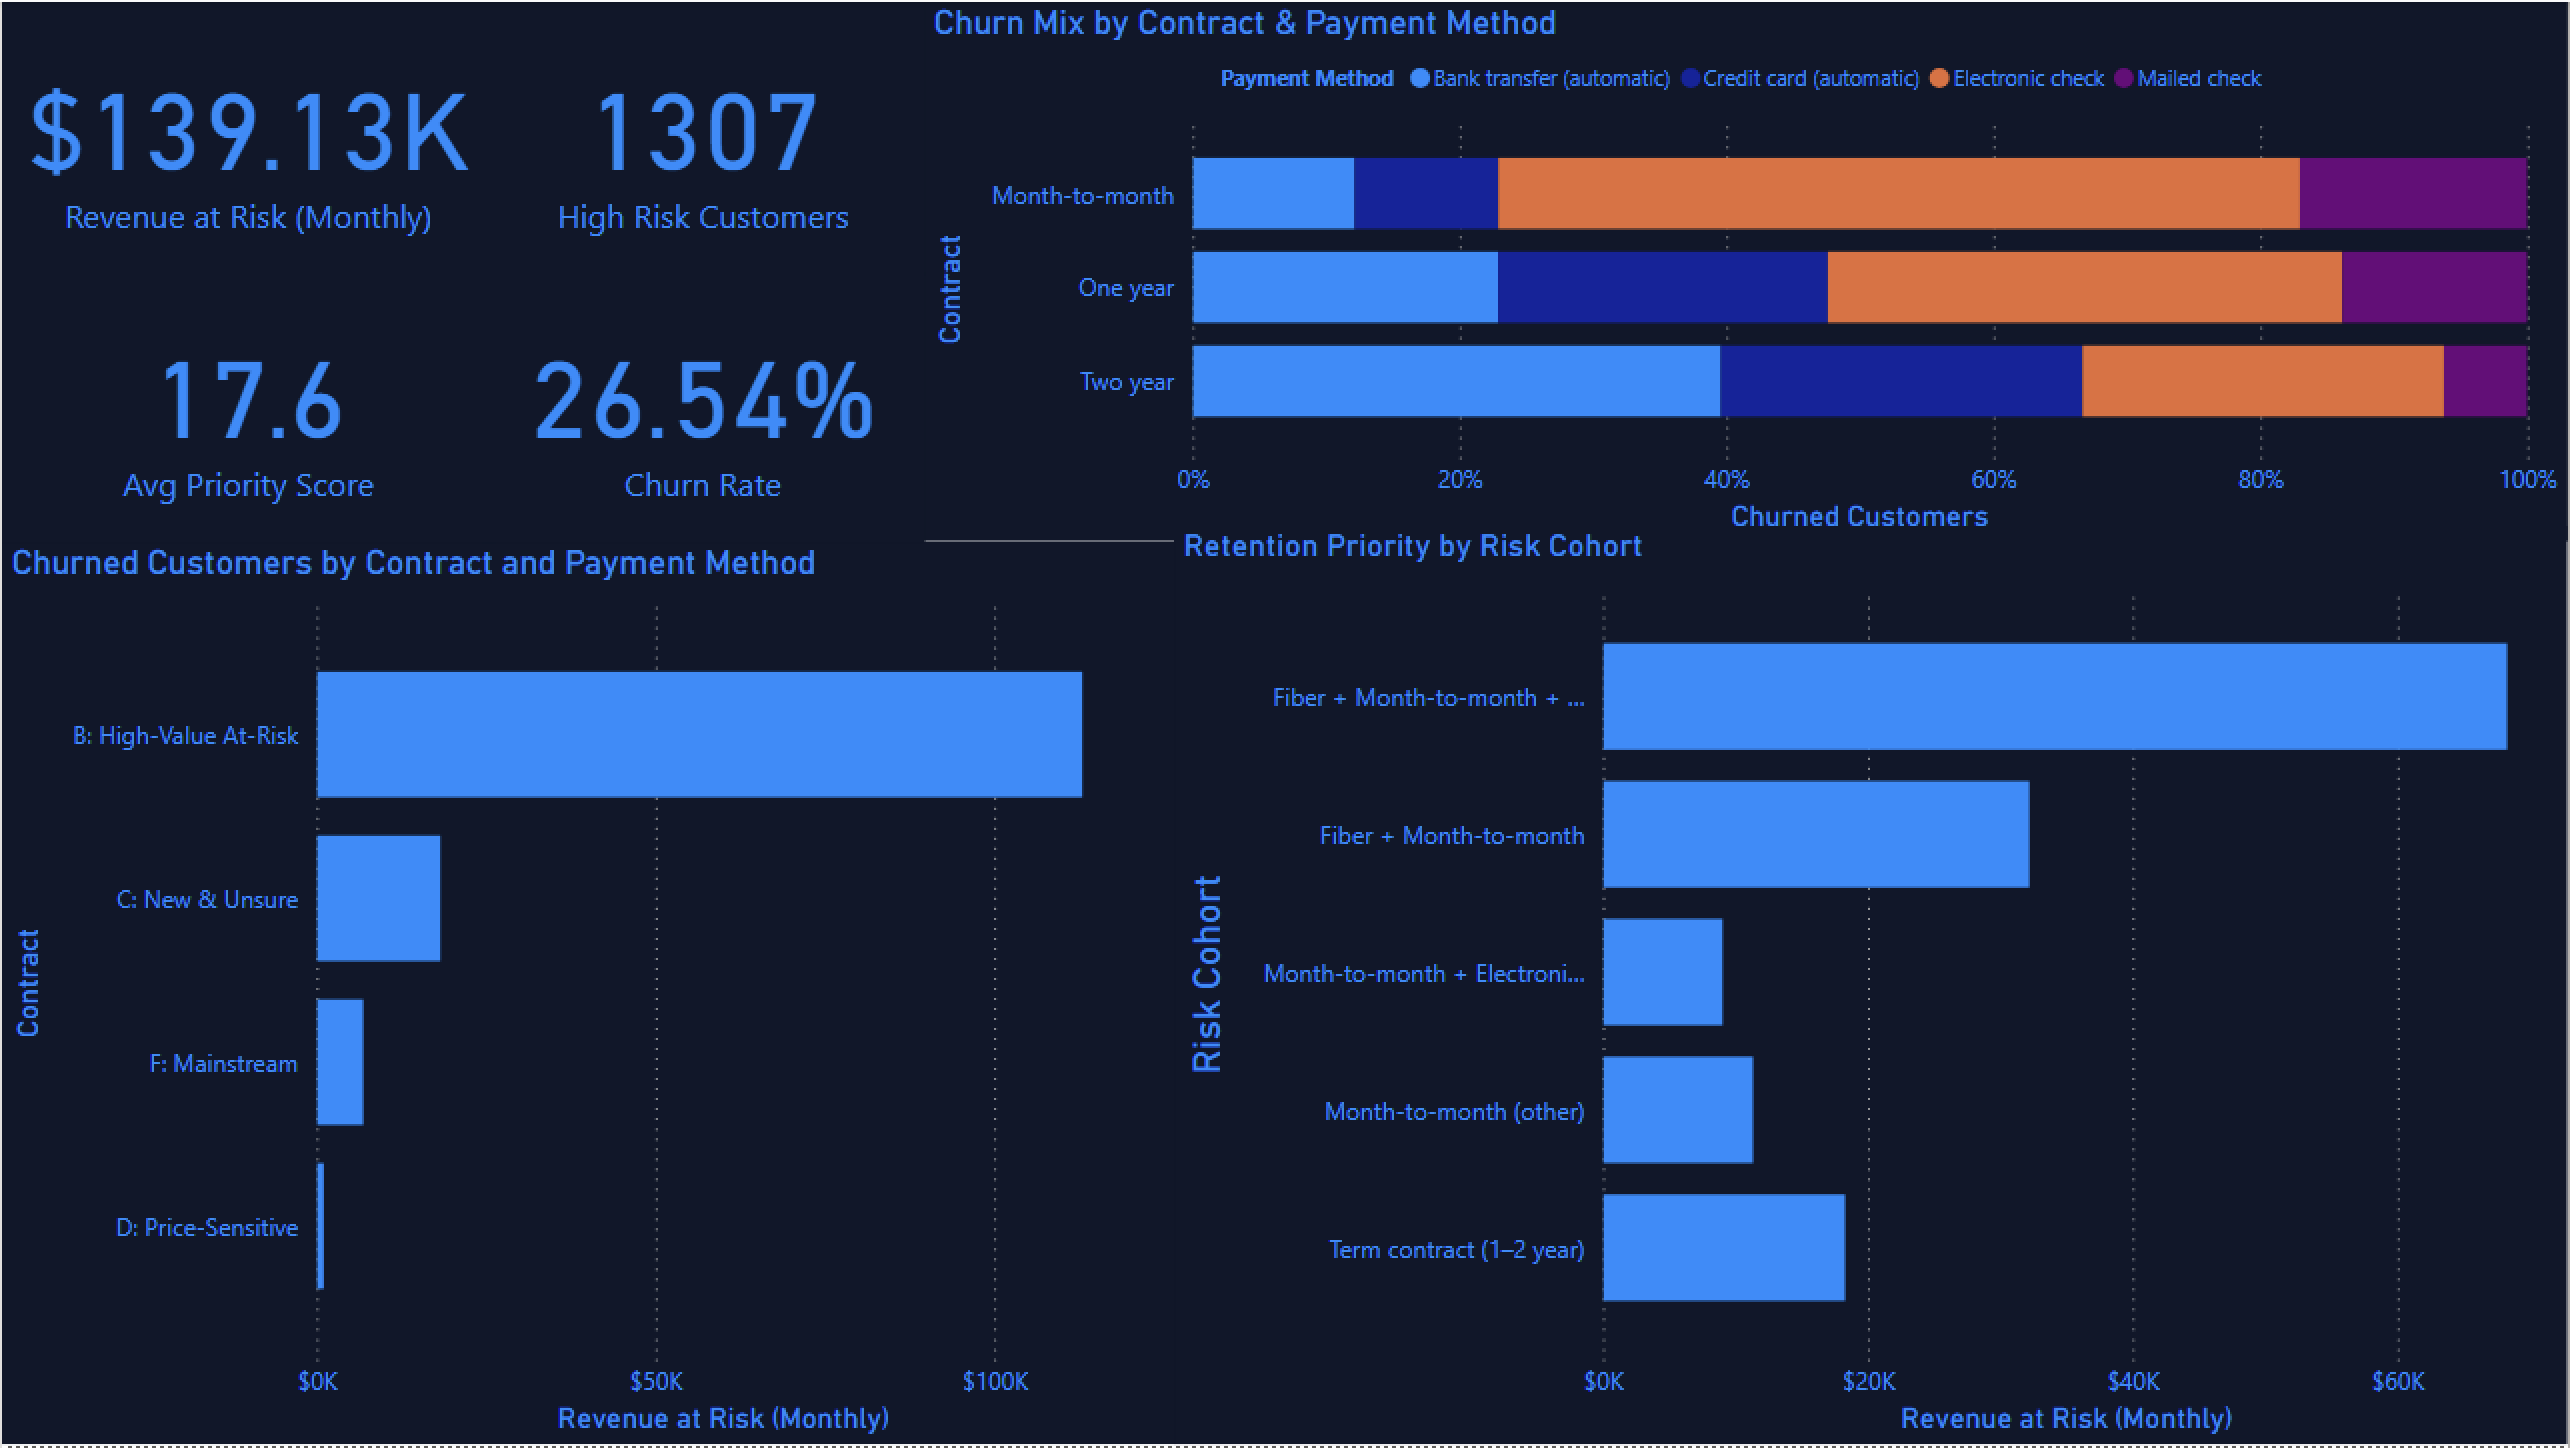

Layout of this report page (visuals, bound fields, positions):
{"tool":"powerbi","page":{"name":"Page 3","canvas":[1280,720],"ordinal":2},"visuals":[{"type":"hundredPercentStackedBarChart","title":"Churn Mix by Contract & Payment Method","fields":{"Category":["public vw_analysis_ready.contract"],"Series":["public vw_analysis_ready.paymentmethod"],"Y":["public vw_analysis_ready.Churned Customers"]},"box":[460.2,0,819.8,269.2],"z":0},{"type":"clusteredBarChart","title":"Retention Priority by Risk Cohort","fields":{"Y":["public vw_analysis_ready.Revenue at Risk (Monthly)"],"Category":["public vw_analysis_ready.risk_cohort_label"]},"box":[584.6,261.4,695.4,457.9],"z":1000},{"type":"clusteredBarChart","title":"Churned Customers by Contract and Payment Method","fields":{"Category":["public vw_analysis_ready.segment"],"Y":["public vw_analysis_ready.Revenue at Risk (Monthly)"]},"box":[0,269.4,584.6,449.9],"z":2000},{"type":"card","fields":{"Values":["public vw_analysis_ready.Revenue at Risk (Monthly)"]},"box":[0,0,246.1,136.2],"z":4000},{"type":"card","fields":{"Values":["public vw_analysis_ready.High Risk Customers"]},"box":[239.3,0,220.8,136.2],"z":5000},{"type":"card","fields":{"Values":["public vw_analysis_ready.Avg Priority Score"]},"box":[0,134.2,246.1,135.2],"z":6000},{"type":"card","fields":{"Values":["public vw_analysis_ready.Churn Rate"]},"box":[239.3,134.2,220.8,135.2],"z":7000}]}

Visuals, with their boxes in screenshot pixels (x1, y1, x2, y2), scaled from the page's 1280x720 canvas onto the 2570x1448 screenshot:
"Churn Mix by Contract & Payment Method" hundredPercentStackedBarChart: 924/0/2569/541
"Retention Priority by Risk Cohort" clusteredBarChart: 1174/526/2569/1447
"Churned Customers by Contract and Payment Method" clusteredBarChart: 0/542/1174/1447
card - public vw_analysis_ready.Revenue at Risk (Monthly): 0/0/494/274
card - public vw_analysis_ready.High Risk Customers: 480/0/924/274
card - public vw_analysis_ready.Avg Priority Score: 0/270/494/542
card - public vw_analysis_ready.Churn Rate: 480/270/924/542
